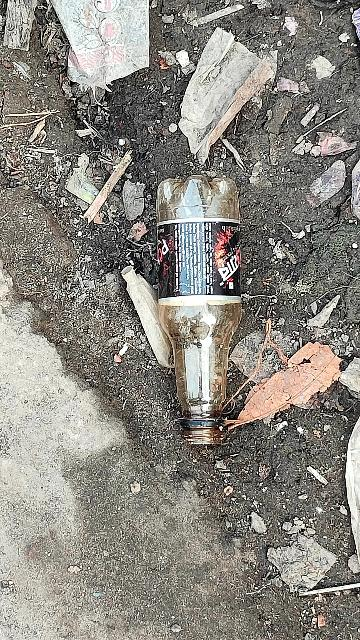bottle: (141, 173, 260, 449)
